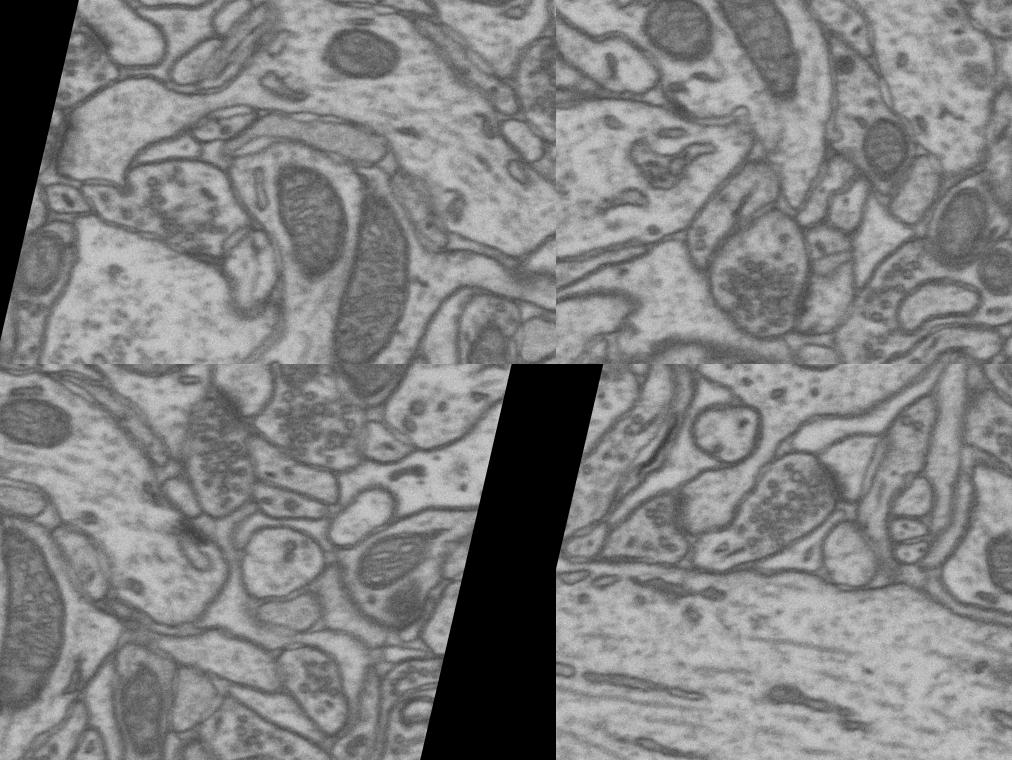mitochondria: (317, 186, 431, 364), (0, 518, 86, 723), (688, 0, 827, 115), (255, 157, 364, 288), (99, 657, 187, 760), (629, 0, 729, 80), (922, 178, 998, 278), (844, 105, 924, 196), (342, 522, 430, 604), (311, 16, 402, 91), (0, 381, 79, 458), (294, 364, 413, 413), (9, 227, 68, 308), (967, 529, 1012, 624), (451, 319, 528, 364), (79, 364, 211, 390), (757, 364, 873, 391), (966, 242, 1012, 299), (991, 397, 1012, 487), (267, 364, 323, 389), (0, 328, 12, 364)
